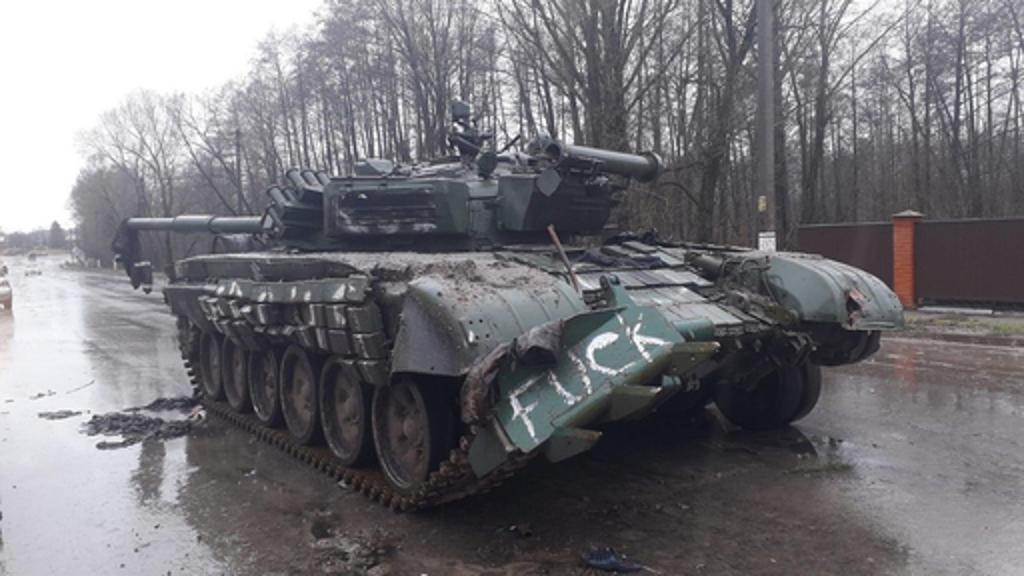TANK: (114, 100, 888, 524)
